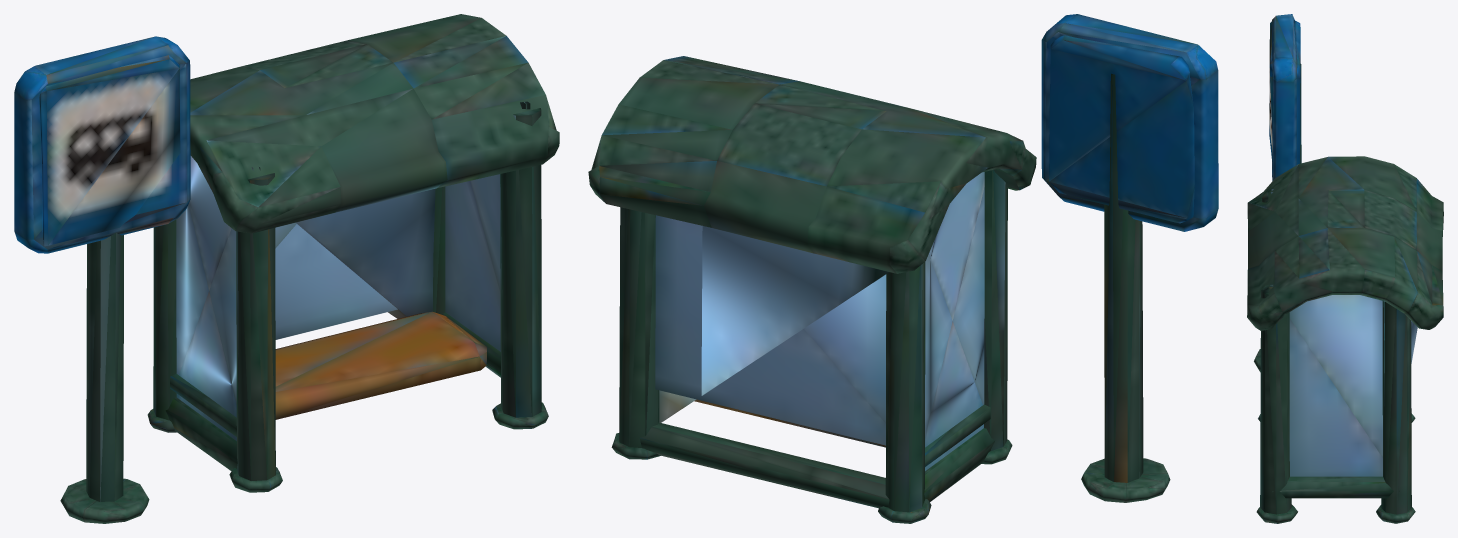
The model's file is bus-shelter.glb.
3 views of the same model, side by side, from view 1: azimuth 30°, elevation 25°; view 2: azimuth 150°, elevation 25°; view 3: azimuth 270°, elevation 25° (orthographic). The views are drawn at different scales.
Parts seen in each view (by area): view 1: geometry_0; view 2: geometry_0; view 3: geometry_0.
Part boxes in pixels (bbox=[...]): geometry_0: bbox=[14, 14, 559, 523]; geometry_0: bbox=[588, 14, 1218, 523]; geometry_0: bbox=[1247, 14, 1443, 523].
Size of the model in its own units: 1 by 0.8492 by 0.4534.
1 material, 1 textured.
